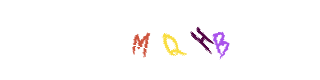9: (112, 0, 192, 80), (119, 0, 199, 80)
B: (180, 0, 260, 80)
H: (161, 0, 241, 80)
M: (124, 0, 204, 80)
Q: (131, 0, 211, 80)
